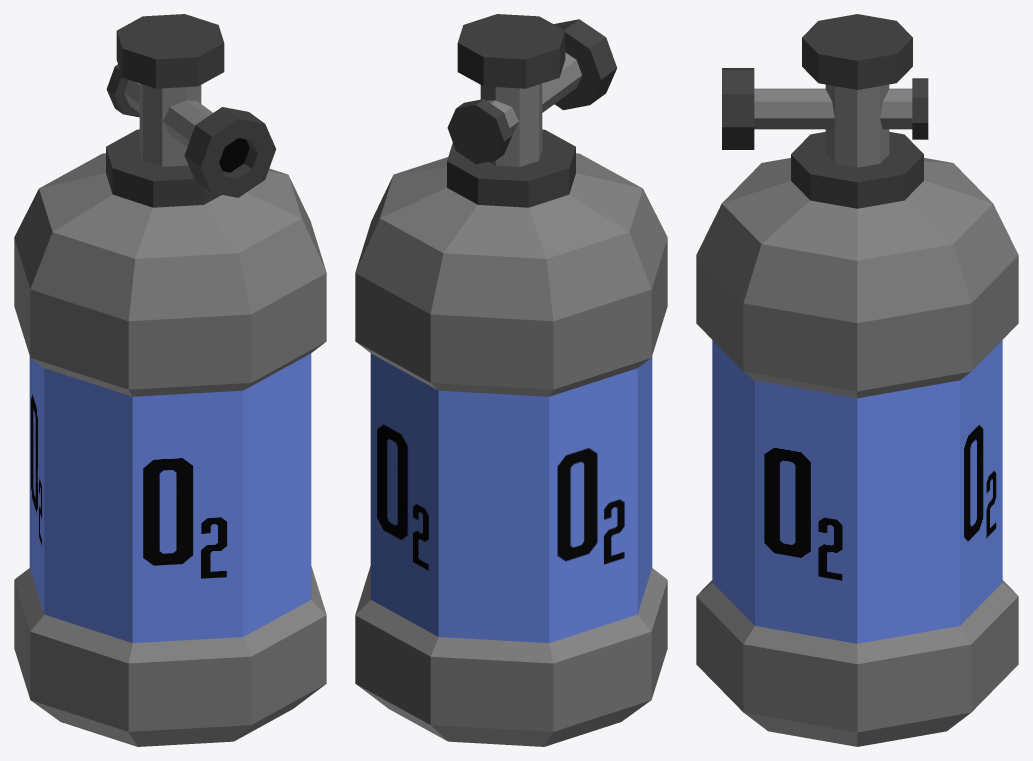
Rendered from CD_Canister_Air_v1.glb.
3 views of the same model, side by side, from view 1: azimuth 30°, elevation 25°; view 2: azimuth 150°, elevation 25°; view 3: azimuth 270°, elevation 25° (orthographic).
Visible parts, largest first — view 1: Canister, LittleThingAtTheTopIDK; view 2: Canister, LittleThingAtTheTopIDK; view 3: Canister, LittleThingAtTheTopIDK.
Part boxes in pixels (left/top/right/bottom): Canister: left=14, top=14, right=326, bottom=746; LittleThingAtTheTopIDK: left=106, top=64, right=275, bottom=197; Canister: left=355, top=14, right=667, bottom=746; LittleThingAtTheTopIDK: left=447, top=19, right=616, bottom=164; Canister: left=696, top=14, right=1018, bottom=746; LittleThingAtTheTopIDK: left=722, top=68, right=928, bottom=149.
Size of the model in its own units: 2 by 4.49 by 2.
7 materials, 1 textured.
